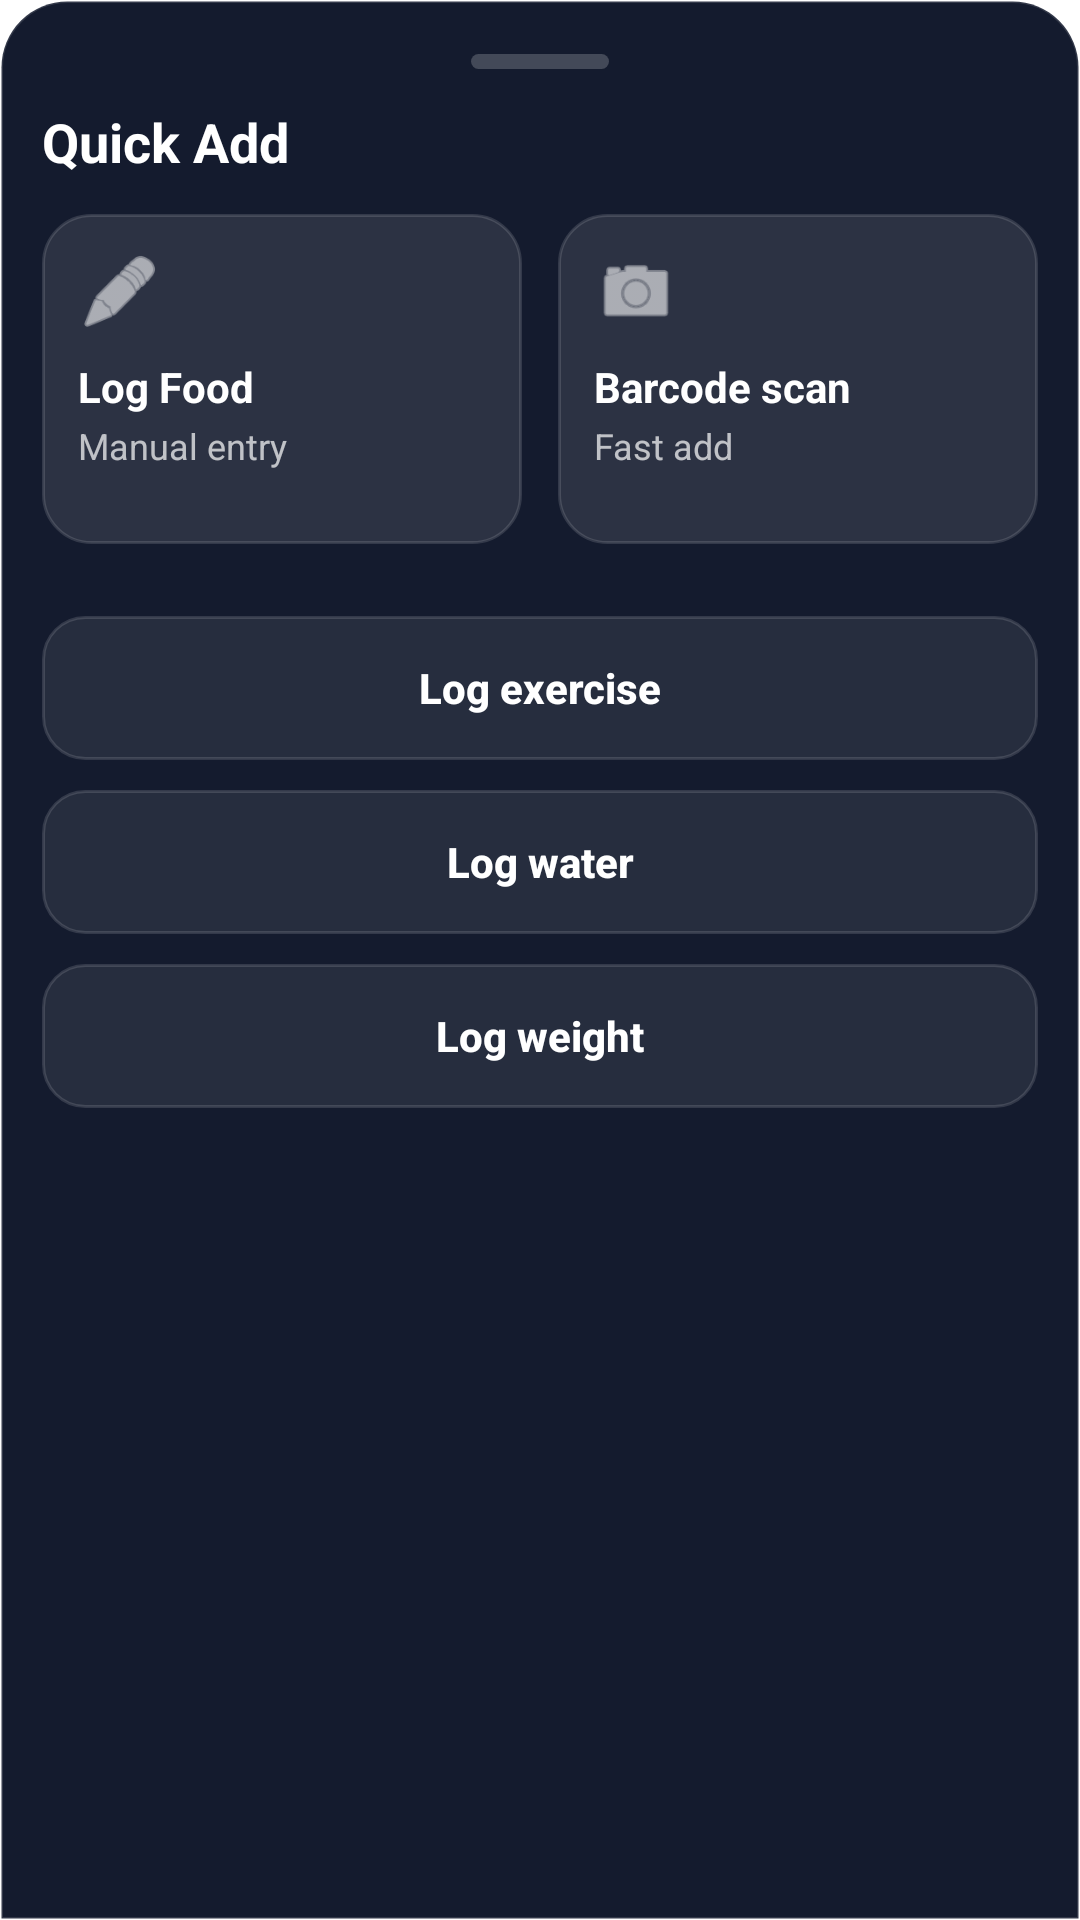

Icon bounding boxes for this 1080x1920 phone screenshot, format detection(x1, y1, x2, y2):
camera: detection(604, 265, 668, 317)
edit: detection(84, 256, 155, 327)
